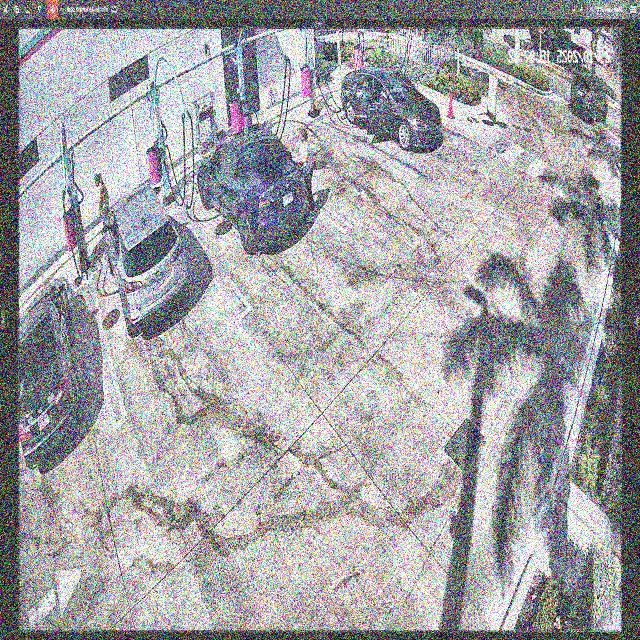Car: (198, 122, 311, 253), (102, 186, 188, 334), (345, 66, 443, 152)
